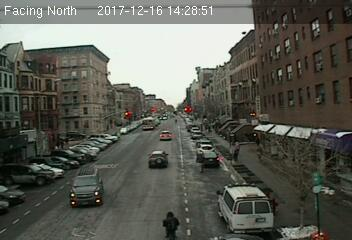bicycle: (160, 208, 182, 238)
car: (71, 168, 103, 205), (148, 151, 167, 166), (159, 130, 171, 140)
police: (215, 181, 274, 232)
